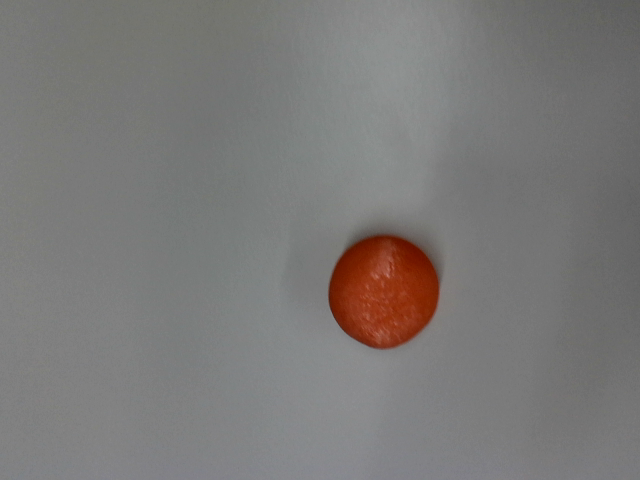orange: (309, 216, 458, 366)
